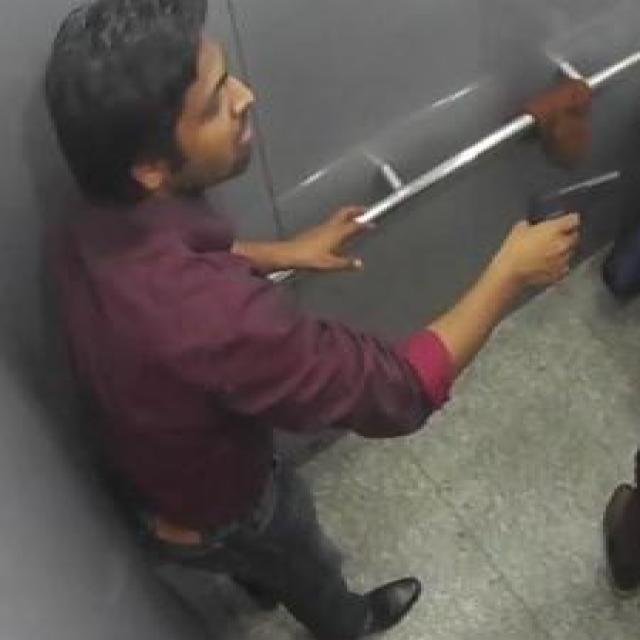Gun: (517, 167, 629, 245)
